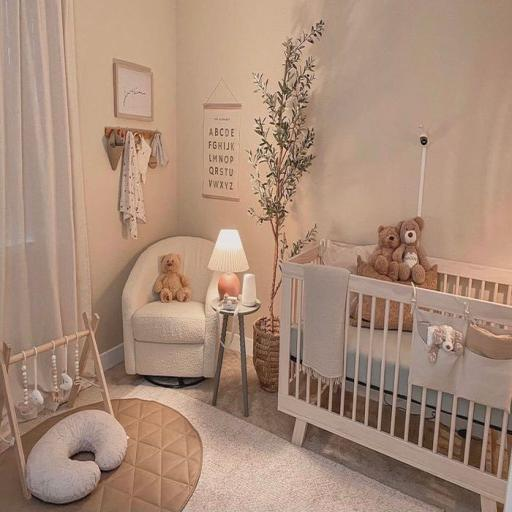crib: (279, 238, 512, 512)
